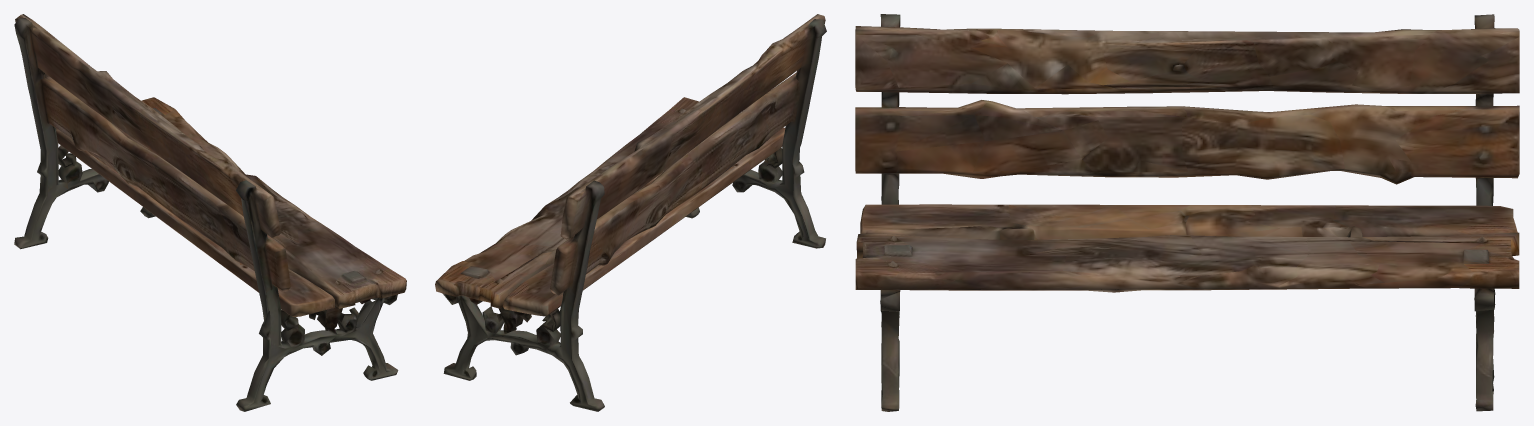
Rendered from bench.glb.
The picture shows the model from 3 angles, left to right: view 1: azimuth 30°, elevation 25°; view 2: azimuth 150°, elevation 25°; view 3: azimuth 270°, elevation 25°; orthographic projection. The views are drawn at different scales.
Visible parts, largest first — view 1: tripo_node_9a960395-8504-4a7c-97dc-0e08b4754c21; view 2: tripo_node_9a960395-8504-4a7c-97dc-0e08b4754c21; view 3: tripo_node_9a960395-8504-4a7c-97dc-0e08b4754c21.
Part boxes in pixels (x1,y1,x2,y2): tripo_node_9a960395-8504-4a7c-97dc-0e08b4754c21: [14, 14, 406, 411]; tripo_node_9a960395-8504-4a7c-97dc-0e08b4754c21: [435, 14, 826, 411]; tripo_node_9a960395-8504-4a7c-97dc-0e08b4754c21: [855, 14, 1519, 411].
Bounding box in the file's own units: 0.3657 × 0.5002 × 0.9998.
1 material, 1 textured.
